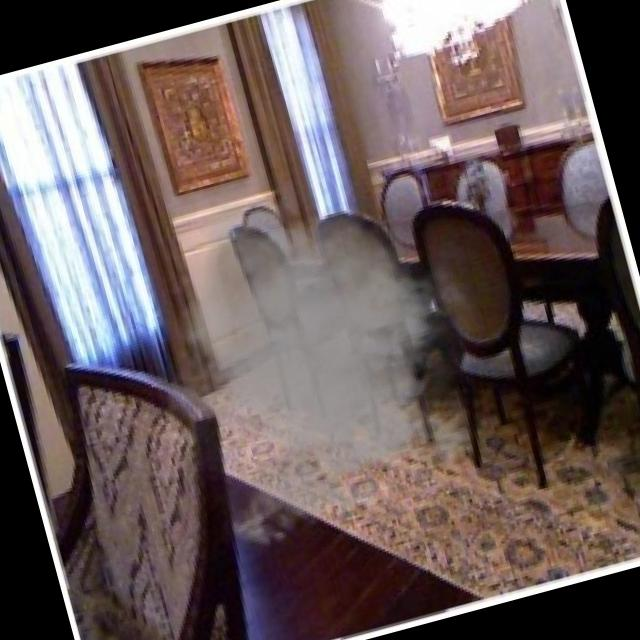Smoke: (98, 139, 536, 576)
